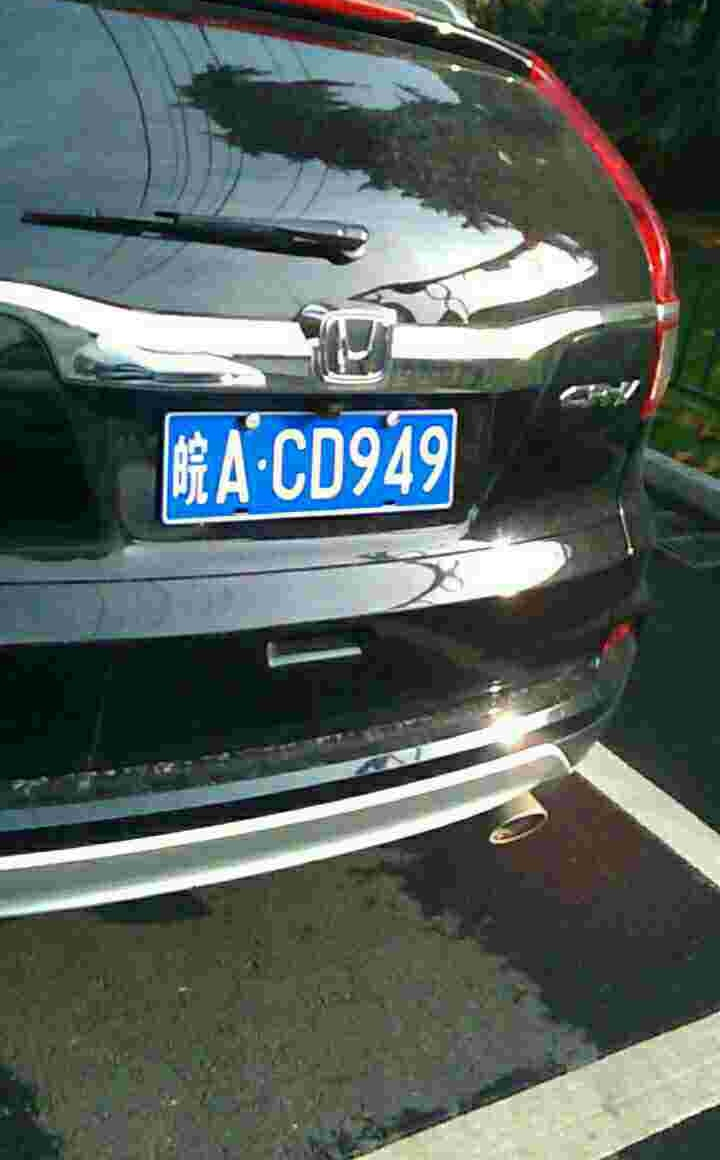license_plate: (157, 416, 461, 508)
